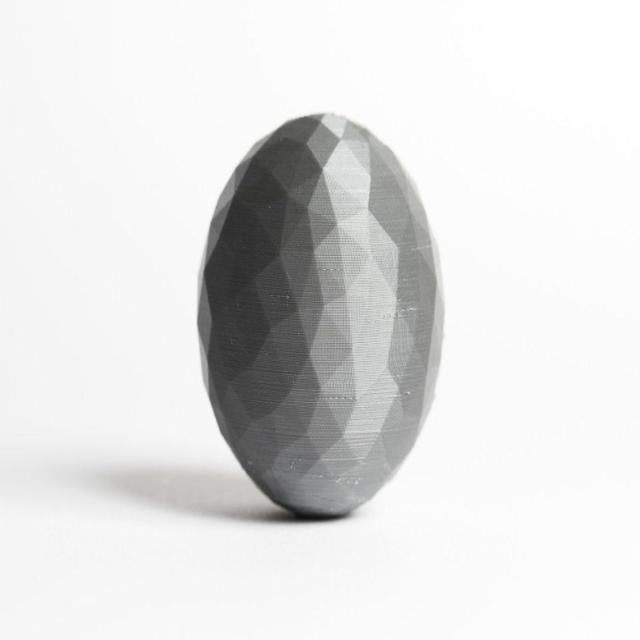Without deffect: (186, 103, 456, 519)
